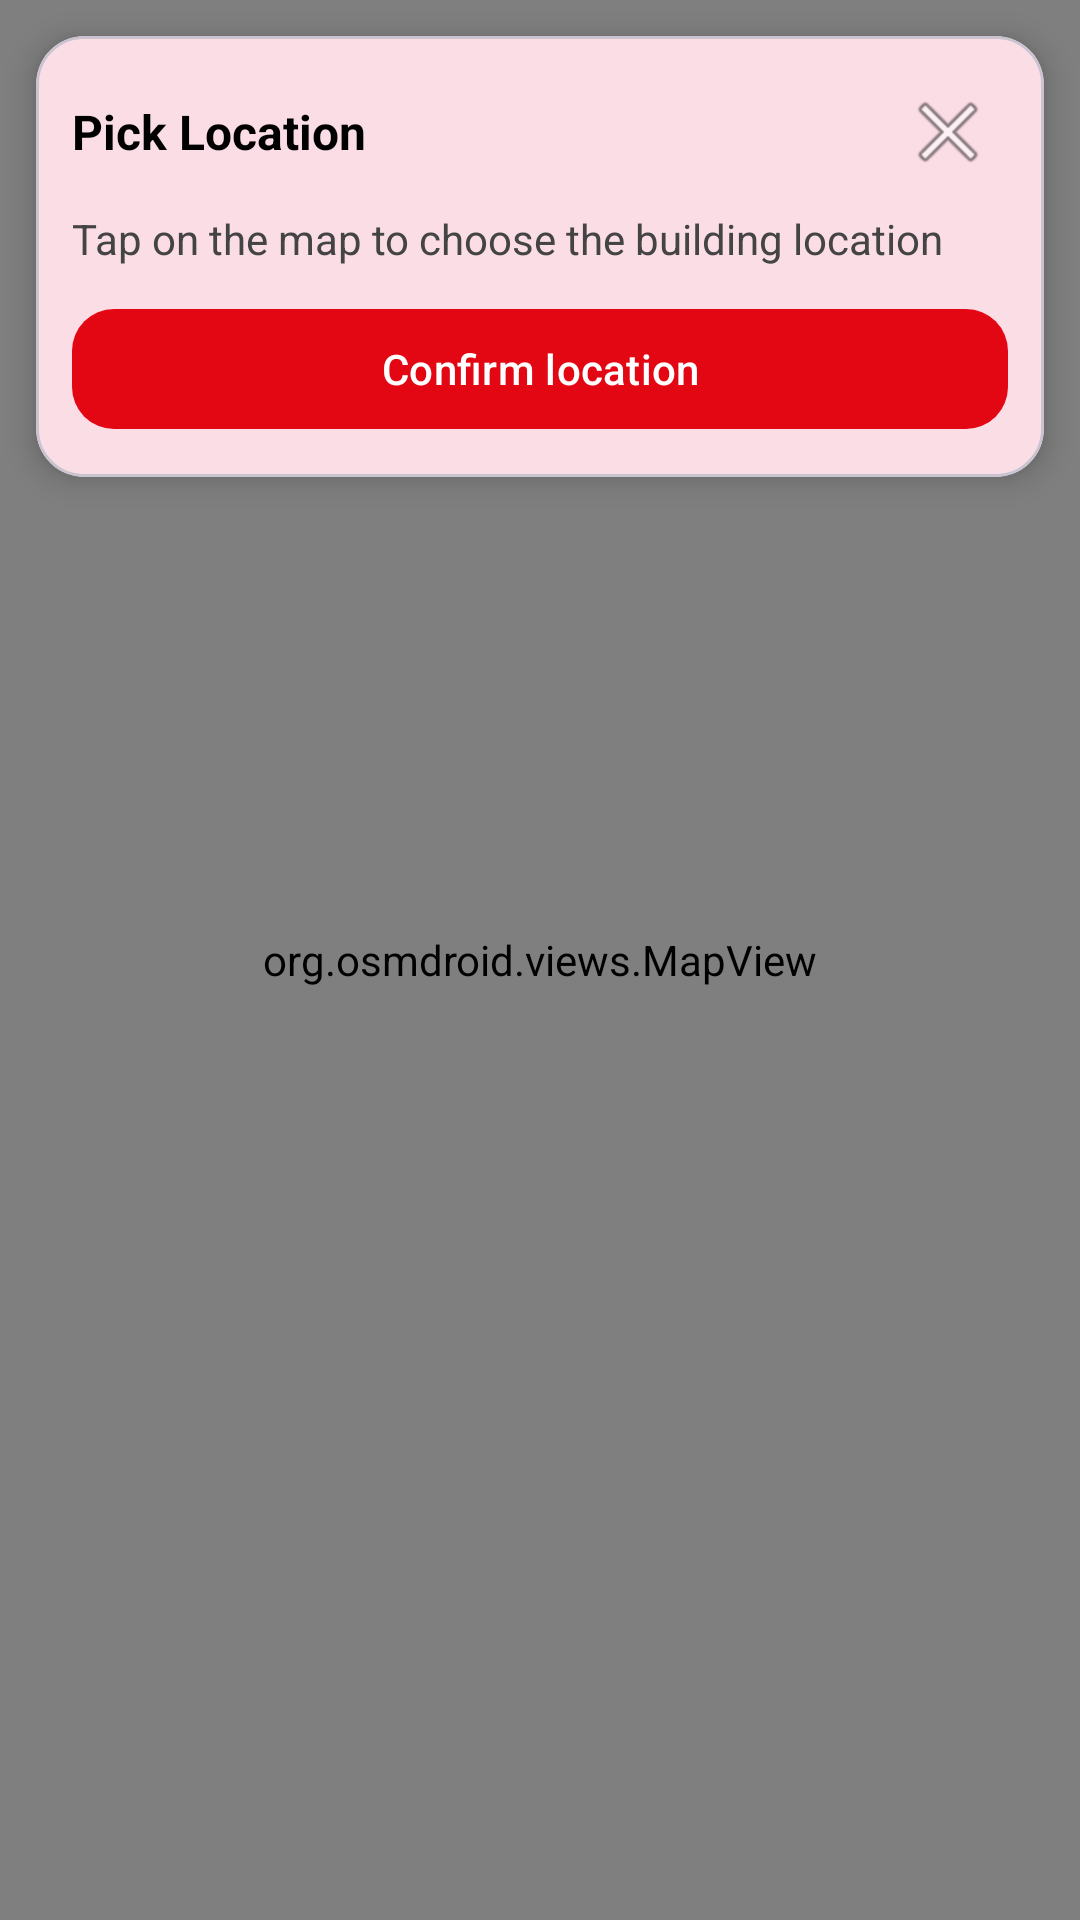

Point at icon controls on the screen. Image size 1080px x 1920px, points as (x,y).
Close: (948,132)
